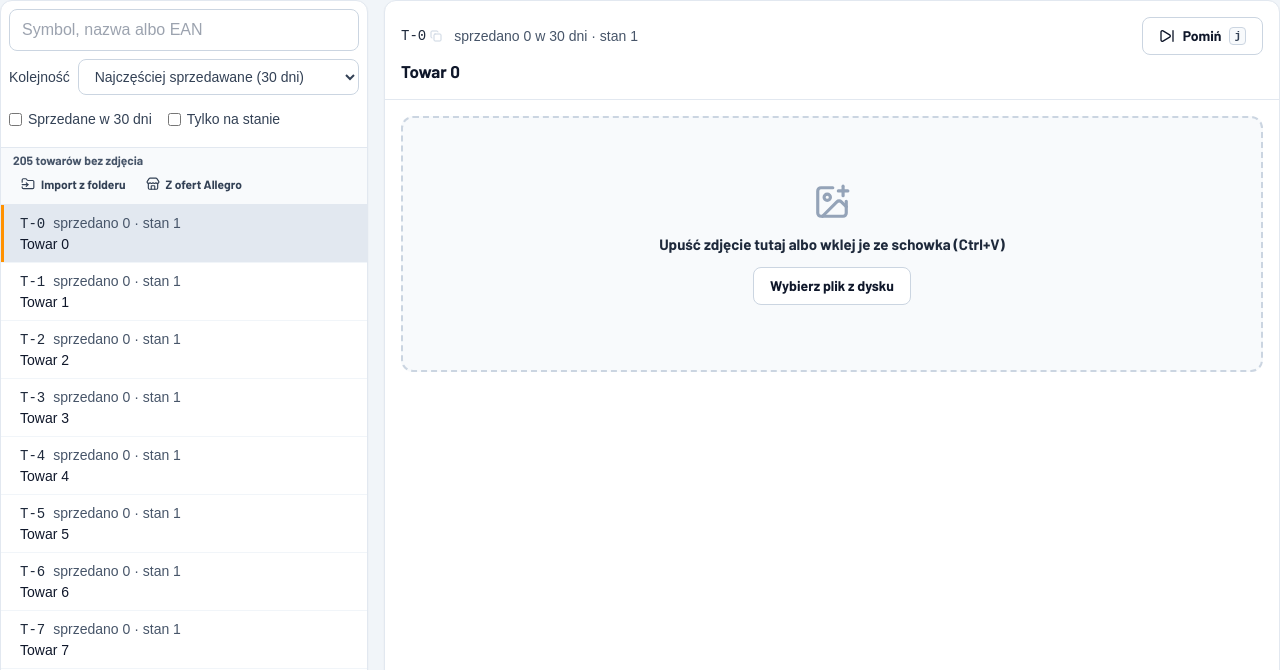
Scenario: Zdjęcia z ofert Allegro › drugie 429 z rzędu zatrzymuje pytanie ze zdaniem, a sprawdzone zostają
Expected: the heading "Towar 0" is shown, [401, 61, 460, 81]
Click the button "Z ofert Allegro": coordinates (194, 184) [138, 168, 250, 200]
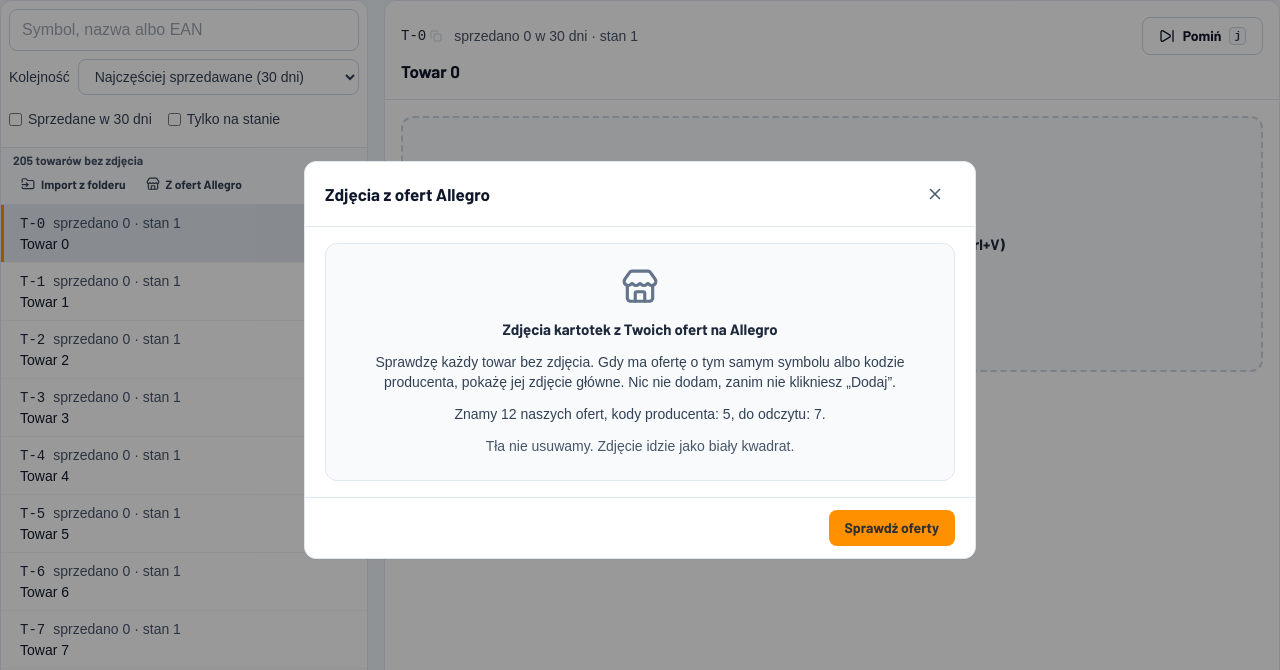
Click the button "Sprawdź oferty": coordinates (892, 528) [828, 510, 955, 546]
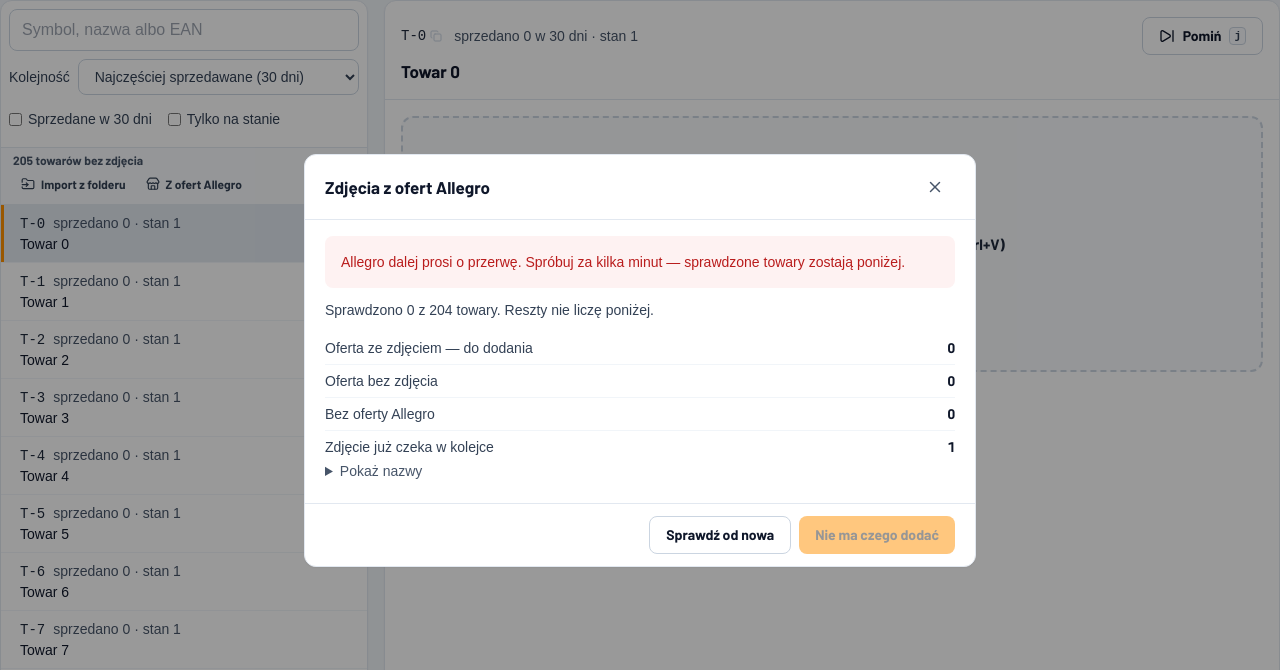
Now the text "Allegro dalej prosi o przerwę" is shown, box [341, 254, 905, 270]
Now the text "Sprawdzono 0 z 204 towary. Reszty nie liczę poniżej." is shown, box [325, 302, 654, 318]
Now the button "Nie ma czego dodać" is disabled, box [799, 516, 955, 554]
